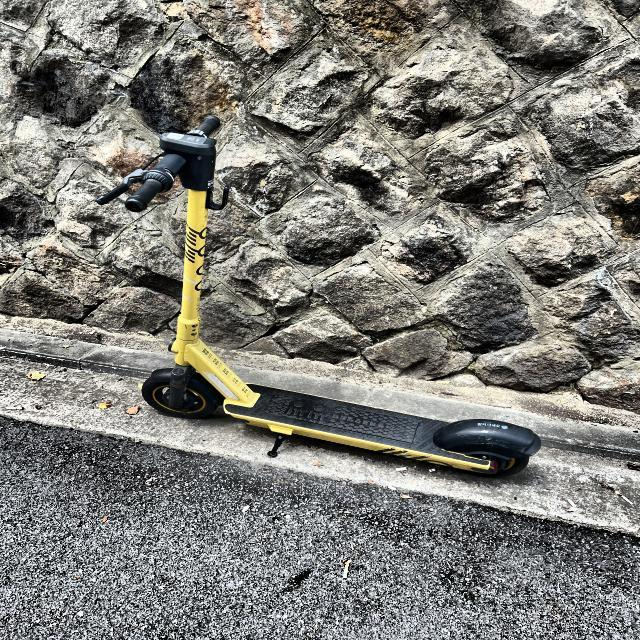bike: (96, 116, 540, 479)
